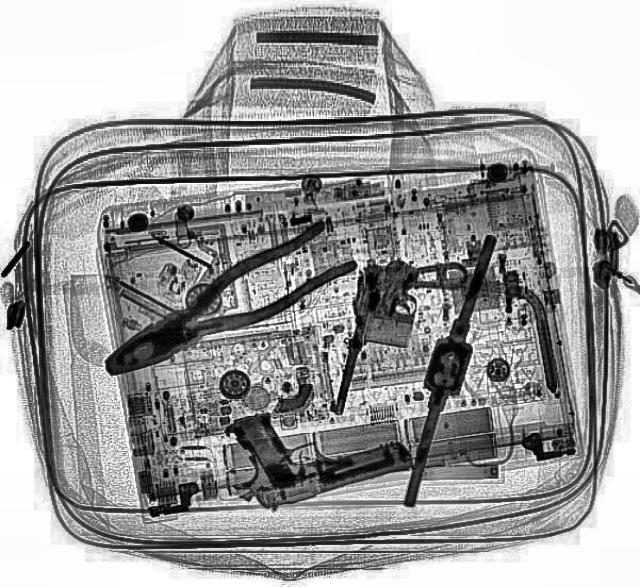Gun: (323, 244, 471, 430), (216, 378, 416, 514)
Pliers: (85, 214, 361, 397)
